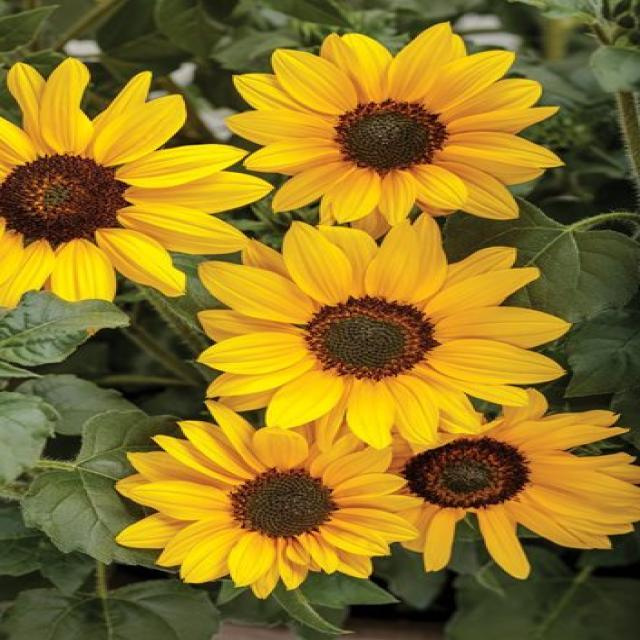sunflower: (194, 213, 573, 450), (223, 19, 564, 230), (0, 56, 272, 310), (112, 399, 422, 599), (374, 387, 638, 580)
